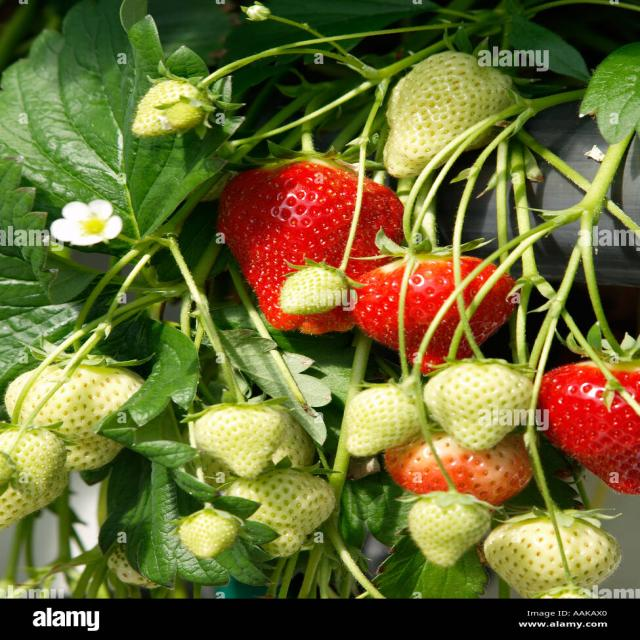immature: (384, 52, 520, 180), (4, 359, 147, 471), (484, 510, 620, 600), (423, 360, 538, 451), (224, 470, 337, 559), (194, 405, 288, 479), (409, 492, 489, 568), (0, 420, 60, 519), (346, 384, 423, 458), (132, 79, 214, 139), (278, 268, 352, 317), (179, 513, 243, 557)
mature: (221, 158, 403, 334), (348, 252, 516, 371), (541, 360, 640, 492)
